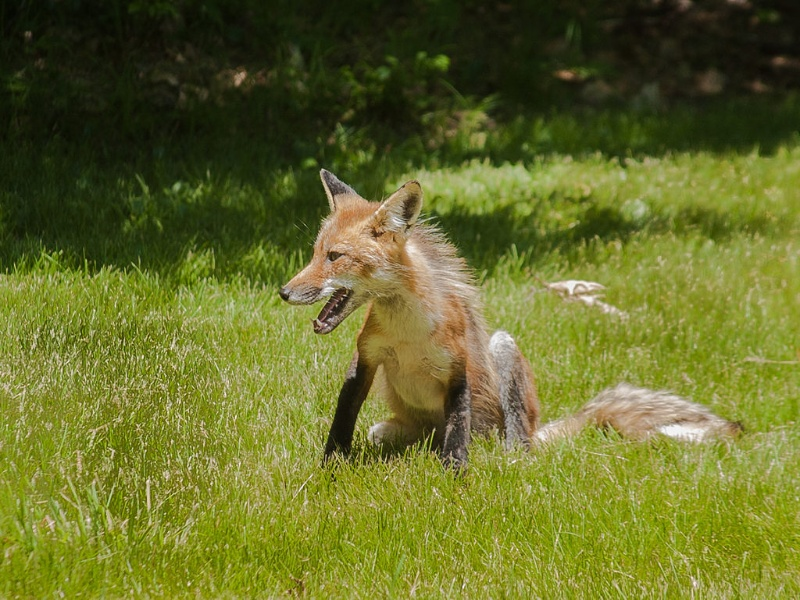fox: (271, 166, 742, 473)
